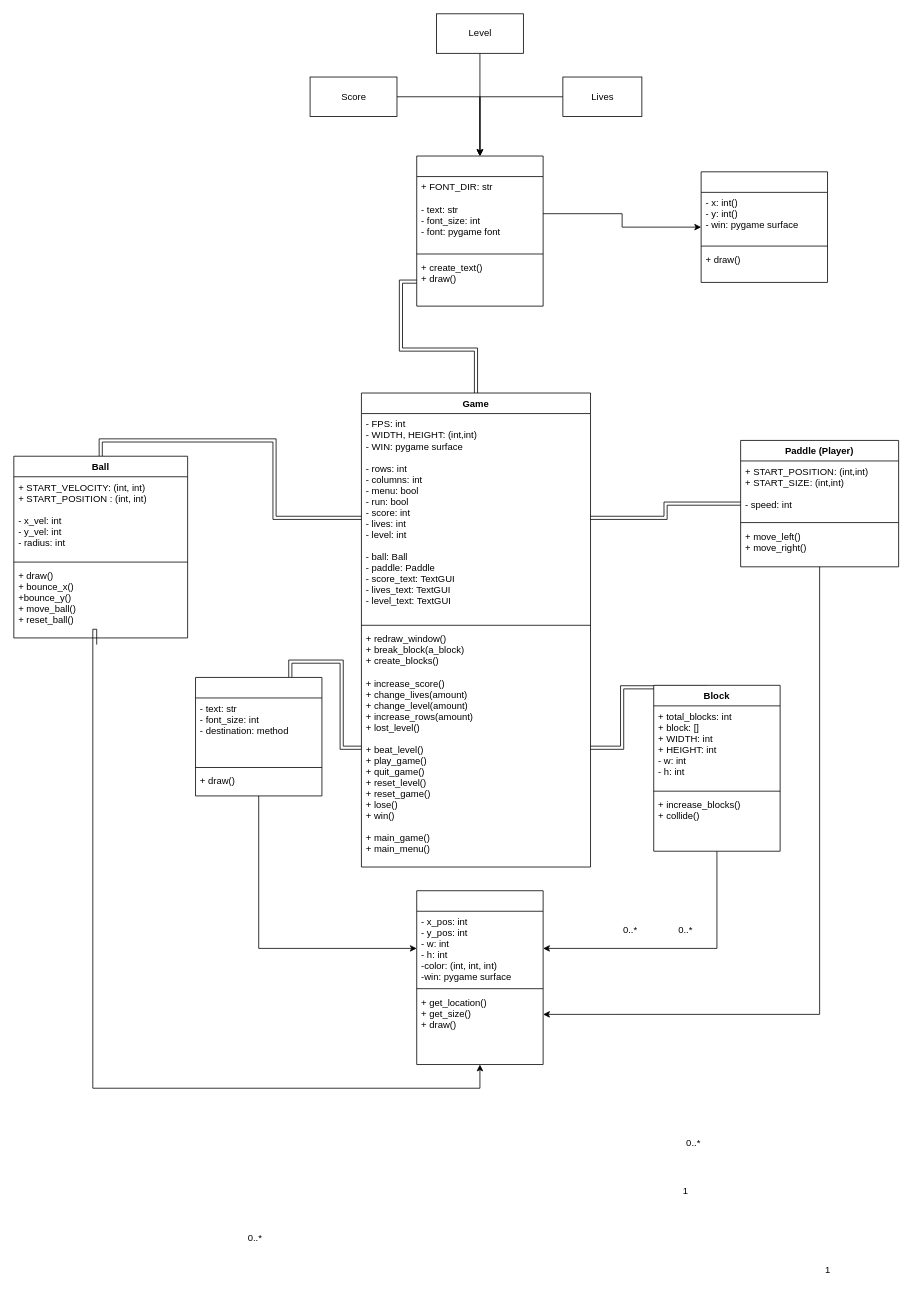
The diagram is 912 pixels wide and 1292 high, and some of its shapes have lost their labels. The box of each missing label's shape, as (x1, y1, x2, y2) in pixels:
Boundary / Solid Object: (416, 890, 543, 1065)
Button: (195, 677, 322, 796)
GUI: (700, 171, 828, 282)
TextGUI: (416, 155, 543, 306)
